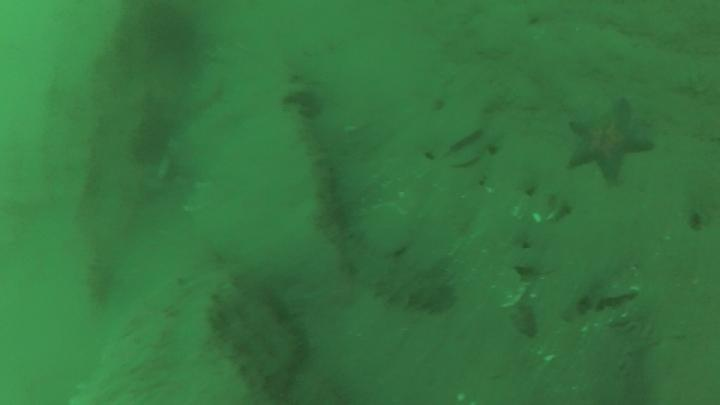holothurian: (332, 229, 455, 314), (295, 105, 342, 221)
scallop: (362, 197, 410, 260)
starfish: (563, 95, 658, 185)
